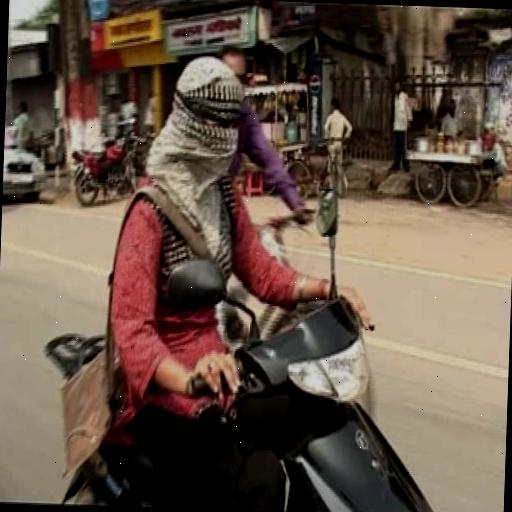no helmet: (71, 30, 407, 512)
